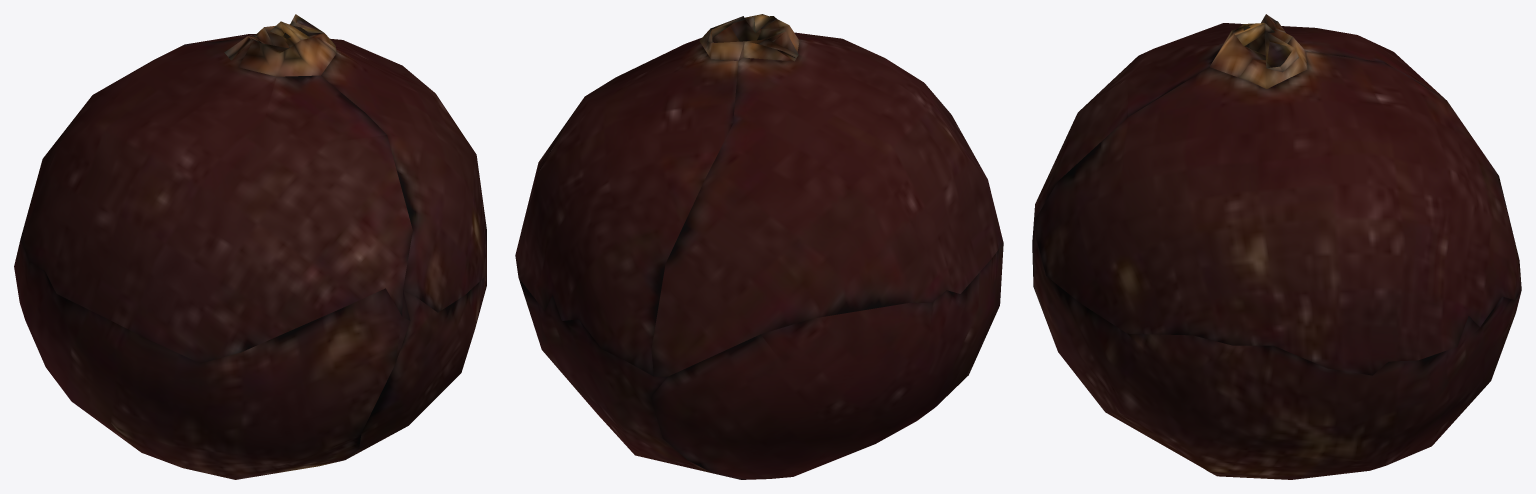
File: food_pomegranate_01.glb
3 views of the same model, side by side, from view 1: azimuth 30°, elevation 25°; view 2: azimuth 150°, elevation 25°; view 3: azimuth 270°, elevation 25° (orthographic). The views are drawn at different scales.
Visible parts, largest first — view 1: food_pomegranate_01; view 2: food_pomegranate_01; view 3: food_pomegranate_01.
Part boxes in pixels (bbox=[...]): food_pomegranate_01: bbox=[14, 14, 486, 479]; food_pomegranate_01: bbox=[515, 14, 1003, 479]; food_pomegranate_01: bbox=[1032, 14, 1521, 479].
Size of the model in its own units: 0.113 by 0.1145 by 0.1149.
1 material, 1 textured.
